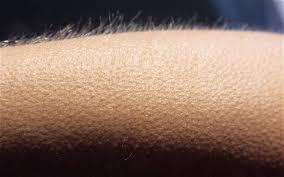Goosebumps: (0, 29, 283, 176)
